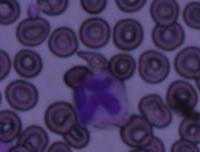N: (72, 69, 132, 128)
